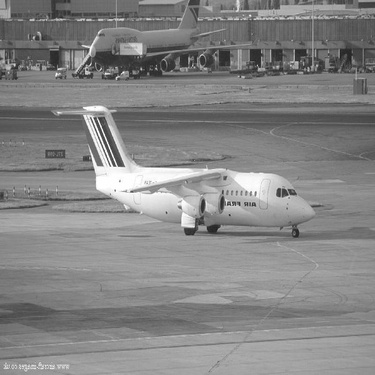airplane: (61, 84, 348, 270), (25, 9, 233, 63)
